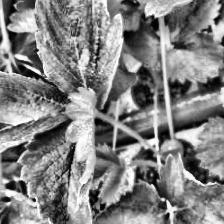Powdery Mildew Leaf: (14, 87, 98, 224), (6, 0, 142, 35)
